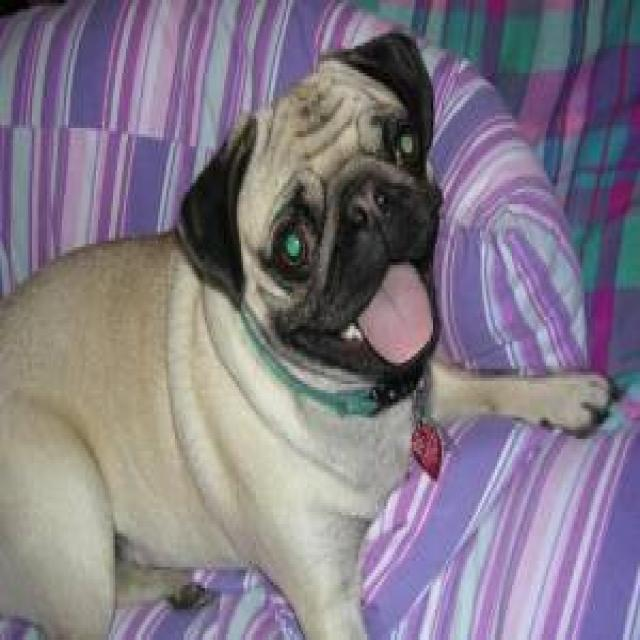dog-pug: (2, 24, 610, 634)
